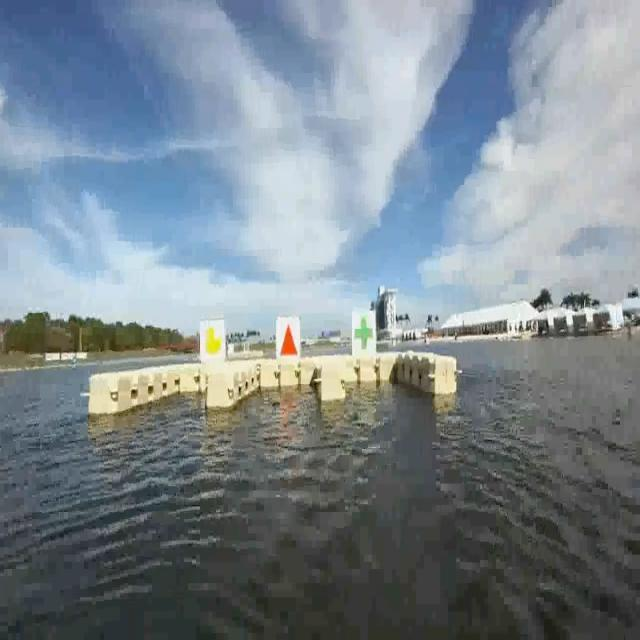blue-cross: (353, 308, 377, 357)
red-dot: (277, 318, 299, 359)
yellow-duck: (202, 326, 224, 355)
